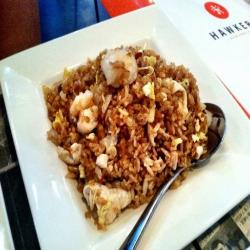rice: (68, 77, 187, 179)
